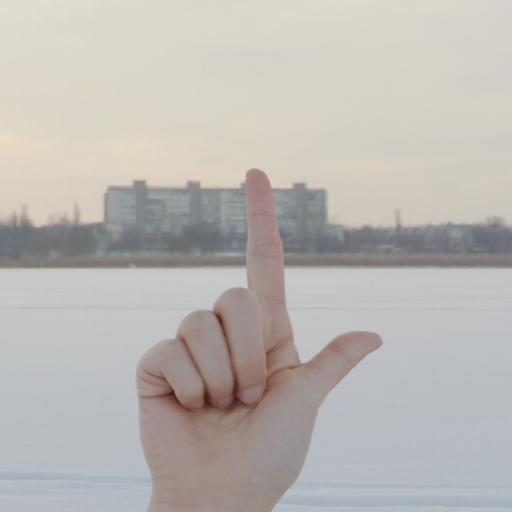L: (127, 159, 387, 471)
